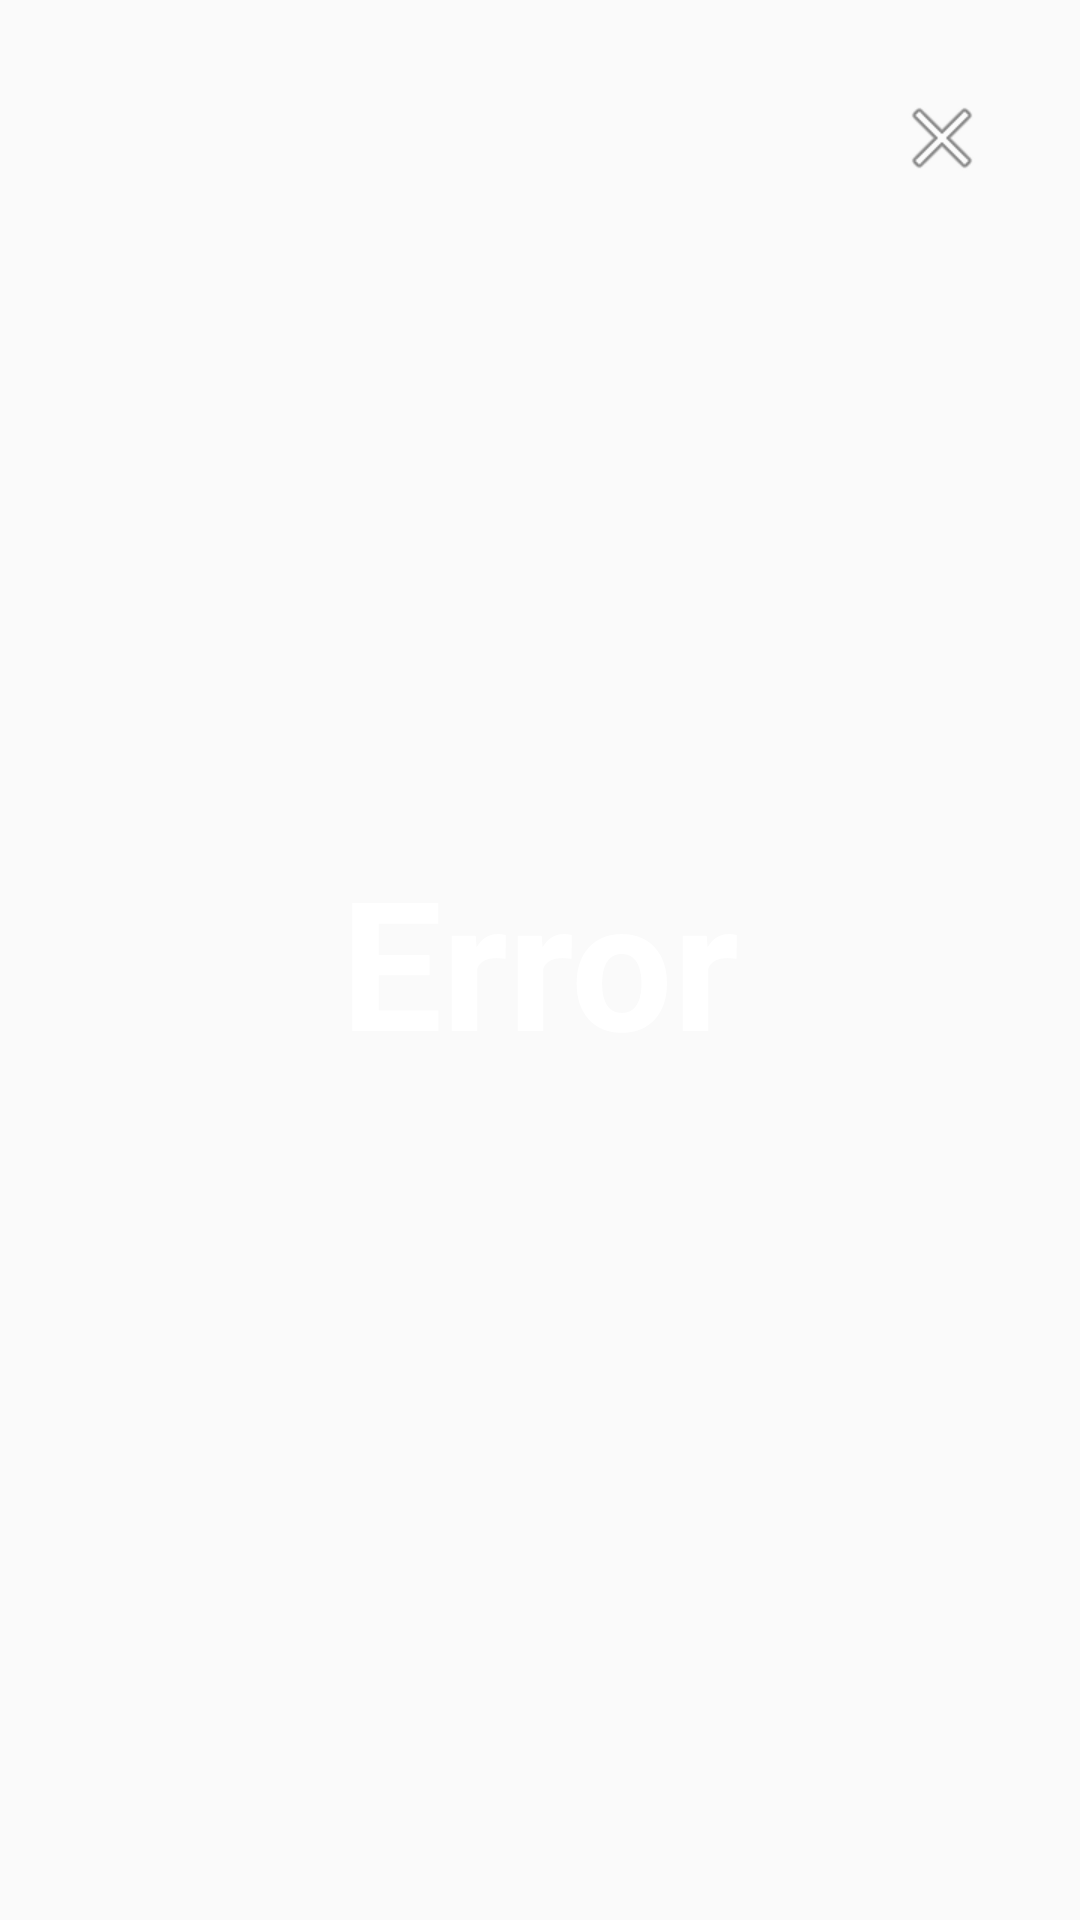

Icons on this 1080w x 1920h Android screen, each with its box as {"x1": x1, "y1": y1, "x2": x2, "y2": y2}:
close clear cancel: {"x1": 912, "y1": 108, "x2": 972, "y2": 168}
